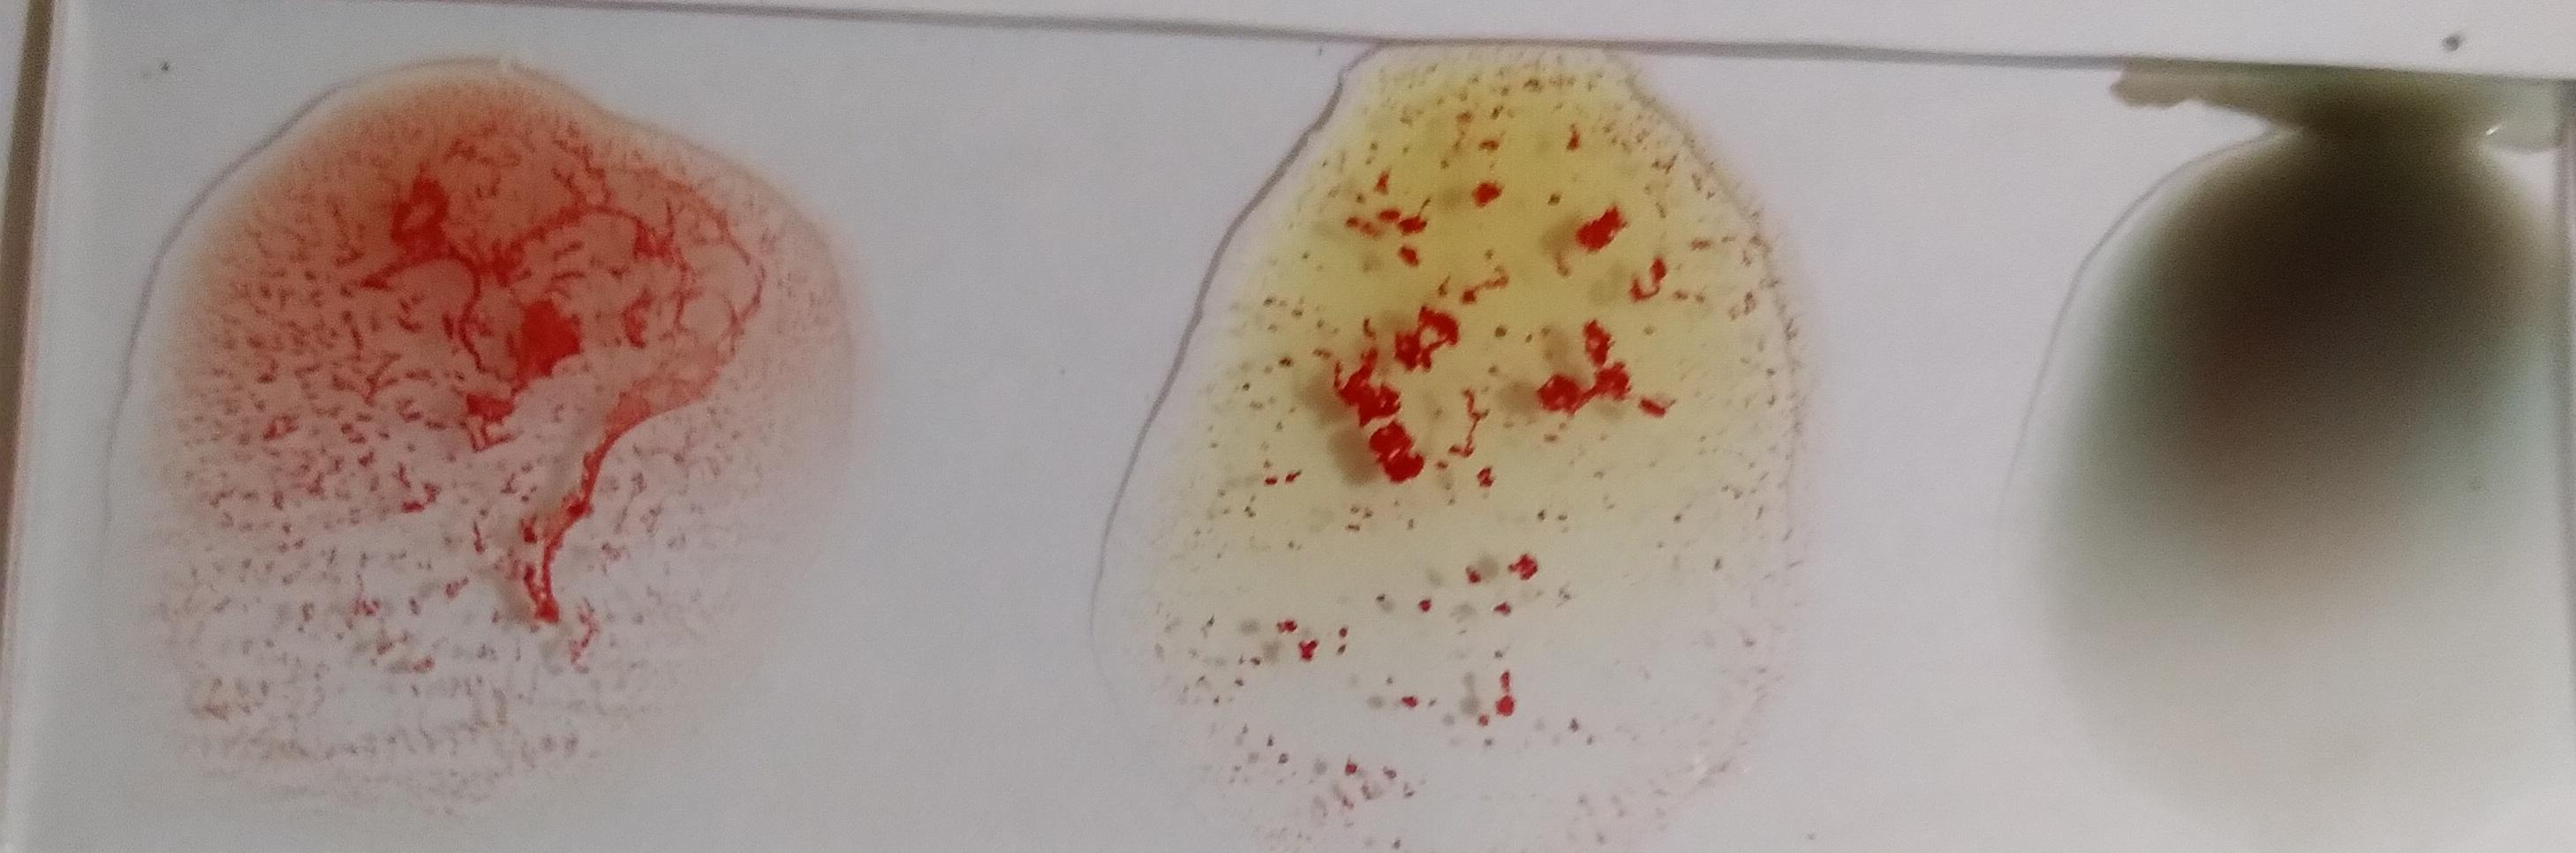B: (1142, 59, 1768, 823)
D: (154, 82, 803, 809)
